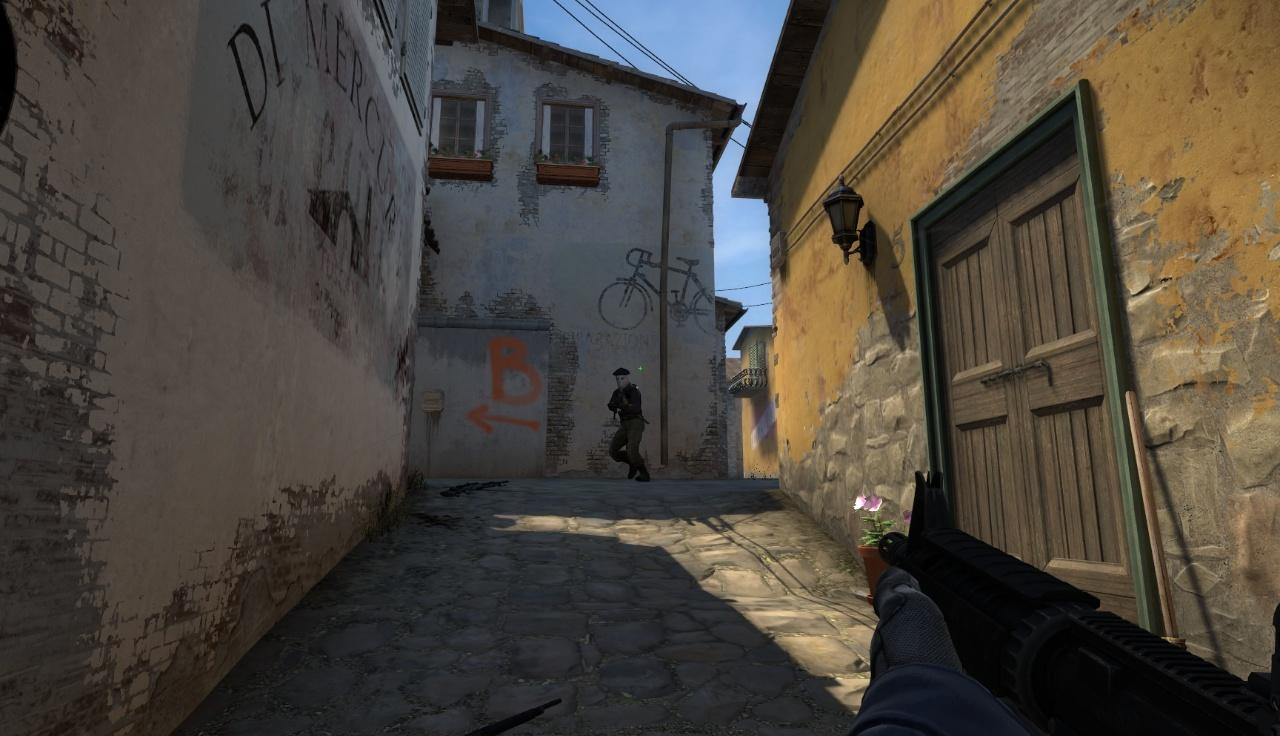rifle: (873, 466, 1280, 736)
tt: (611, 368, 643, 483)
tthead: (615, 368, 629, 389)
